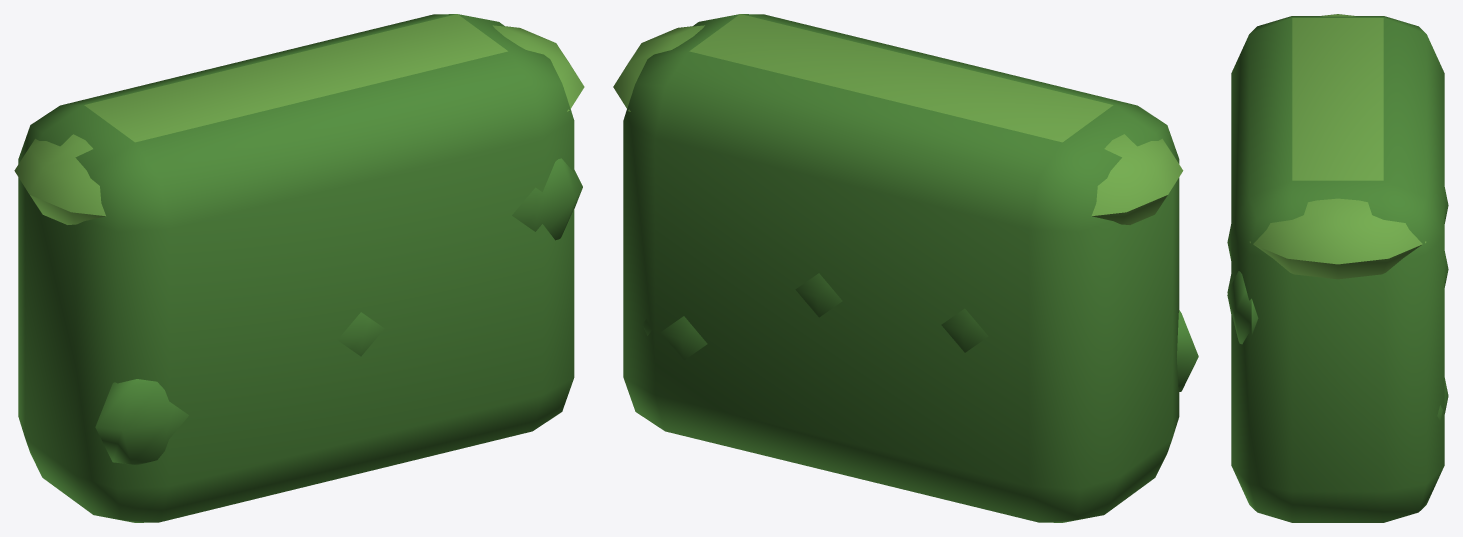
File: fence-hedge-run.glb
The picture shows the model from 3 angles, left to right: view 1: azimuth 30°, elevation 25°; view 2: azimuth 150°, elevation 25°; view 3: azimuth 270°, elevation 25°; orthographic projection. The views are drawn at different scales.
Parts seen in each view (by area): view 1: leaves; view 2: leaves; view 3: leaves.
Part boxes in pixels (x1=…): leaves: x1=14, y1=14, x2=584, y2=522; leaves: x1=613, y1=14, x2=1198, y2=522; leaves: x1=1227, y1=14, x2=1448, y2=522.
Size of the model in its own units: 1.1 by 0.74 by 0.436.
